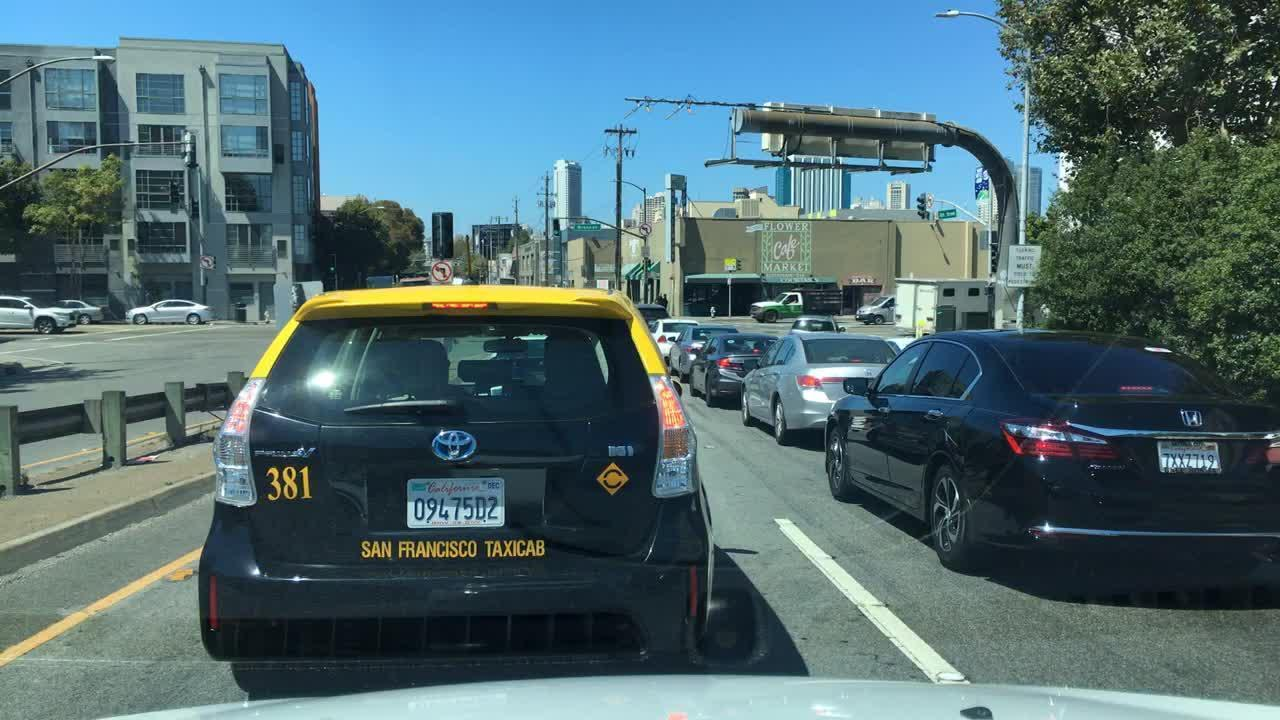Honda: (1169, 402, 1209, 436)
Toyota: (428, 422, 487, 471)
